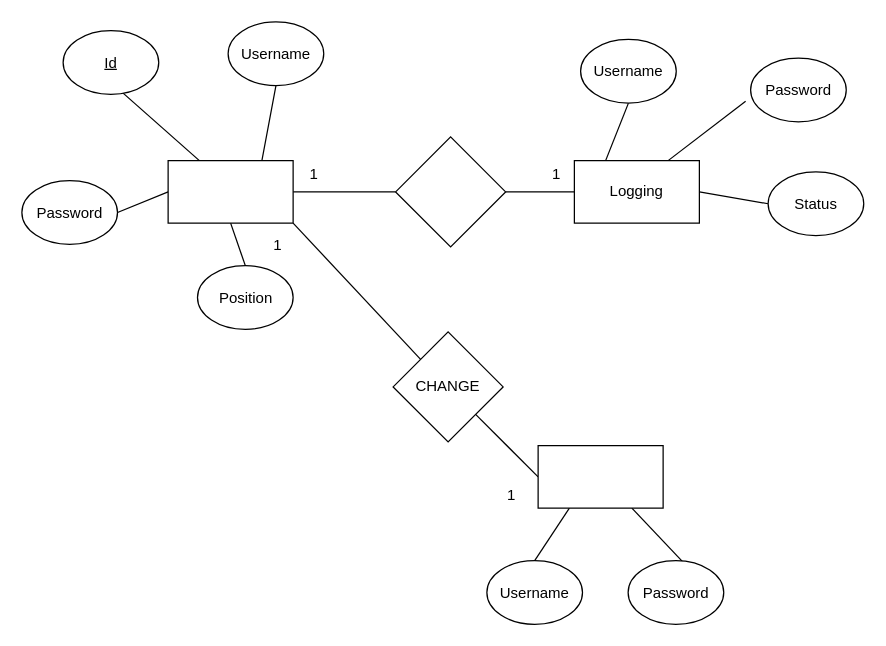
The diagram is 886 pixels wide and 646 high, and some of its shapes have lost their labels. The centre of each missing label's shape, as x and y in pixels:
"PROVIDE" goes at pixel 450 191.
"RePassword" goes at pixel 600 476.
"User" goes at pixel 230 191.
